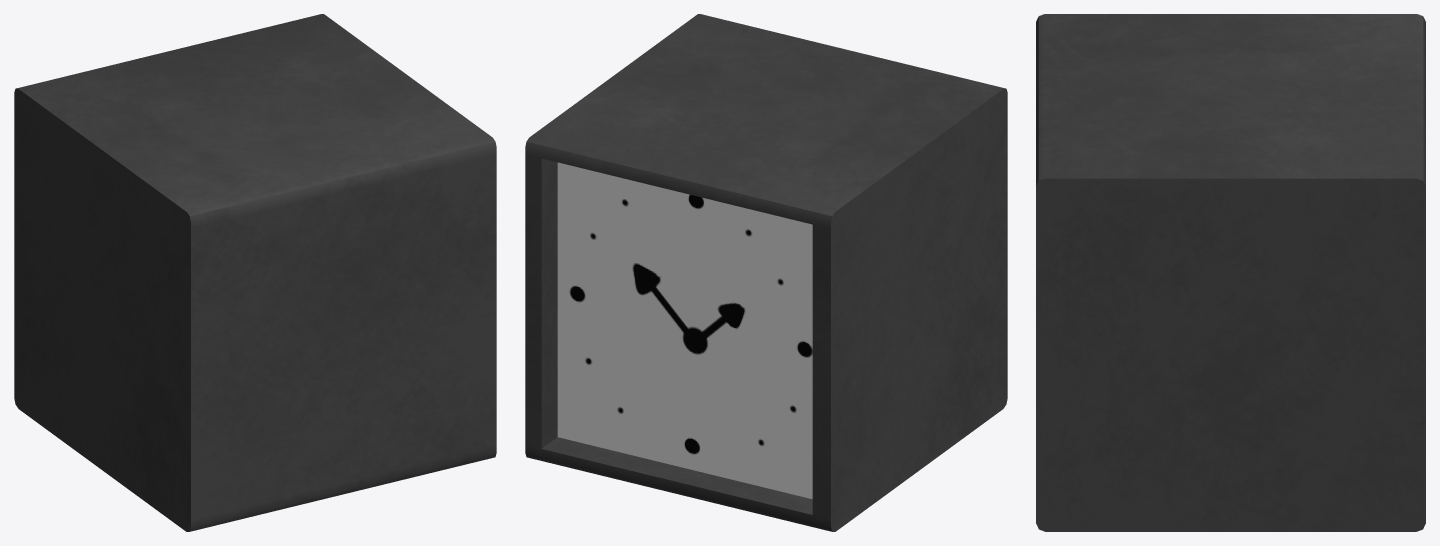
3 views of the same model, side by side, from view 1: azimuth 30°, elevation 25°; view 2: azimuth 150°, elevation 25°; view 3: azimuth 270°, elevation 25° (orthographic). The views are drawn at different scales.
Parts seen in each view (by area): view 1: pCube2; view 2: pCube2; view 3: pCube2.
Part boxes in pixels (x1,y1,x2,y2): pCube2: [14, 14, 496, 531]; pCube2: [525, 14, 1007, 531]; pCube2: [1036, 14, 1425, 531].
Size of the model in its own units: 1 by 1 by 1.
